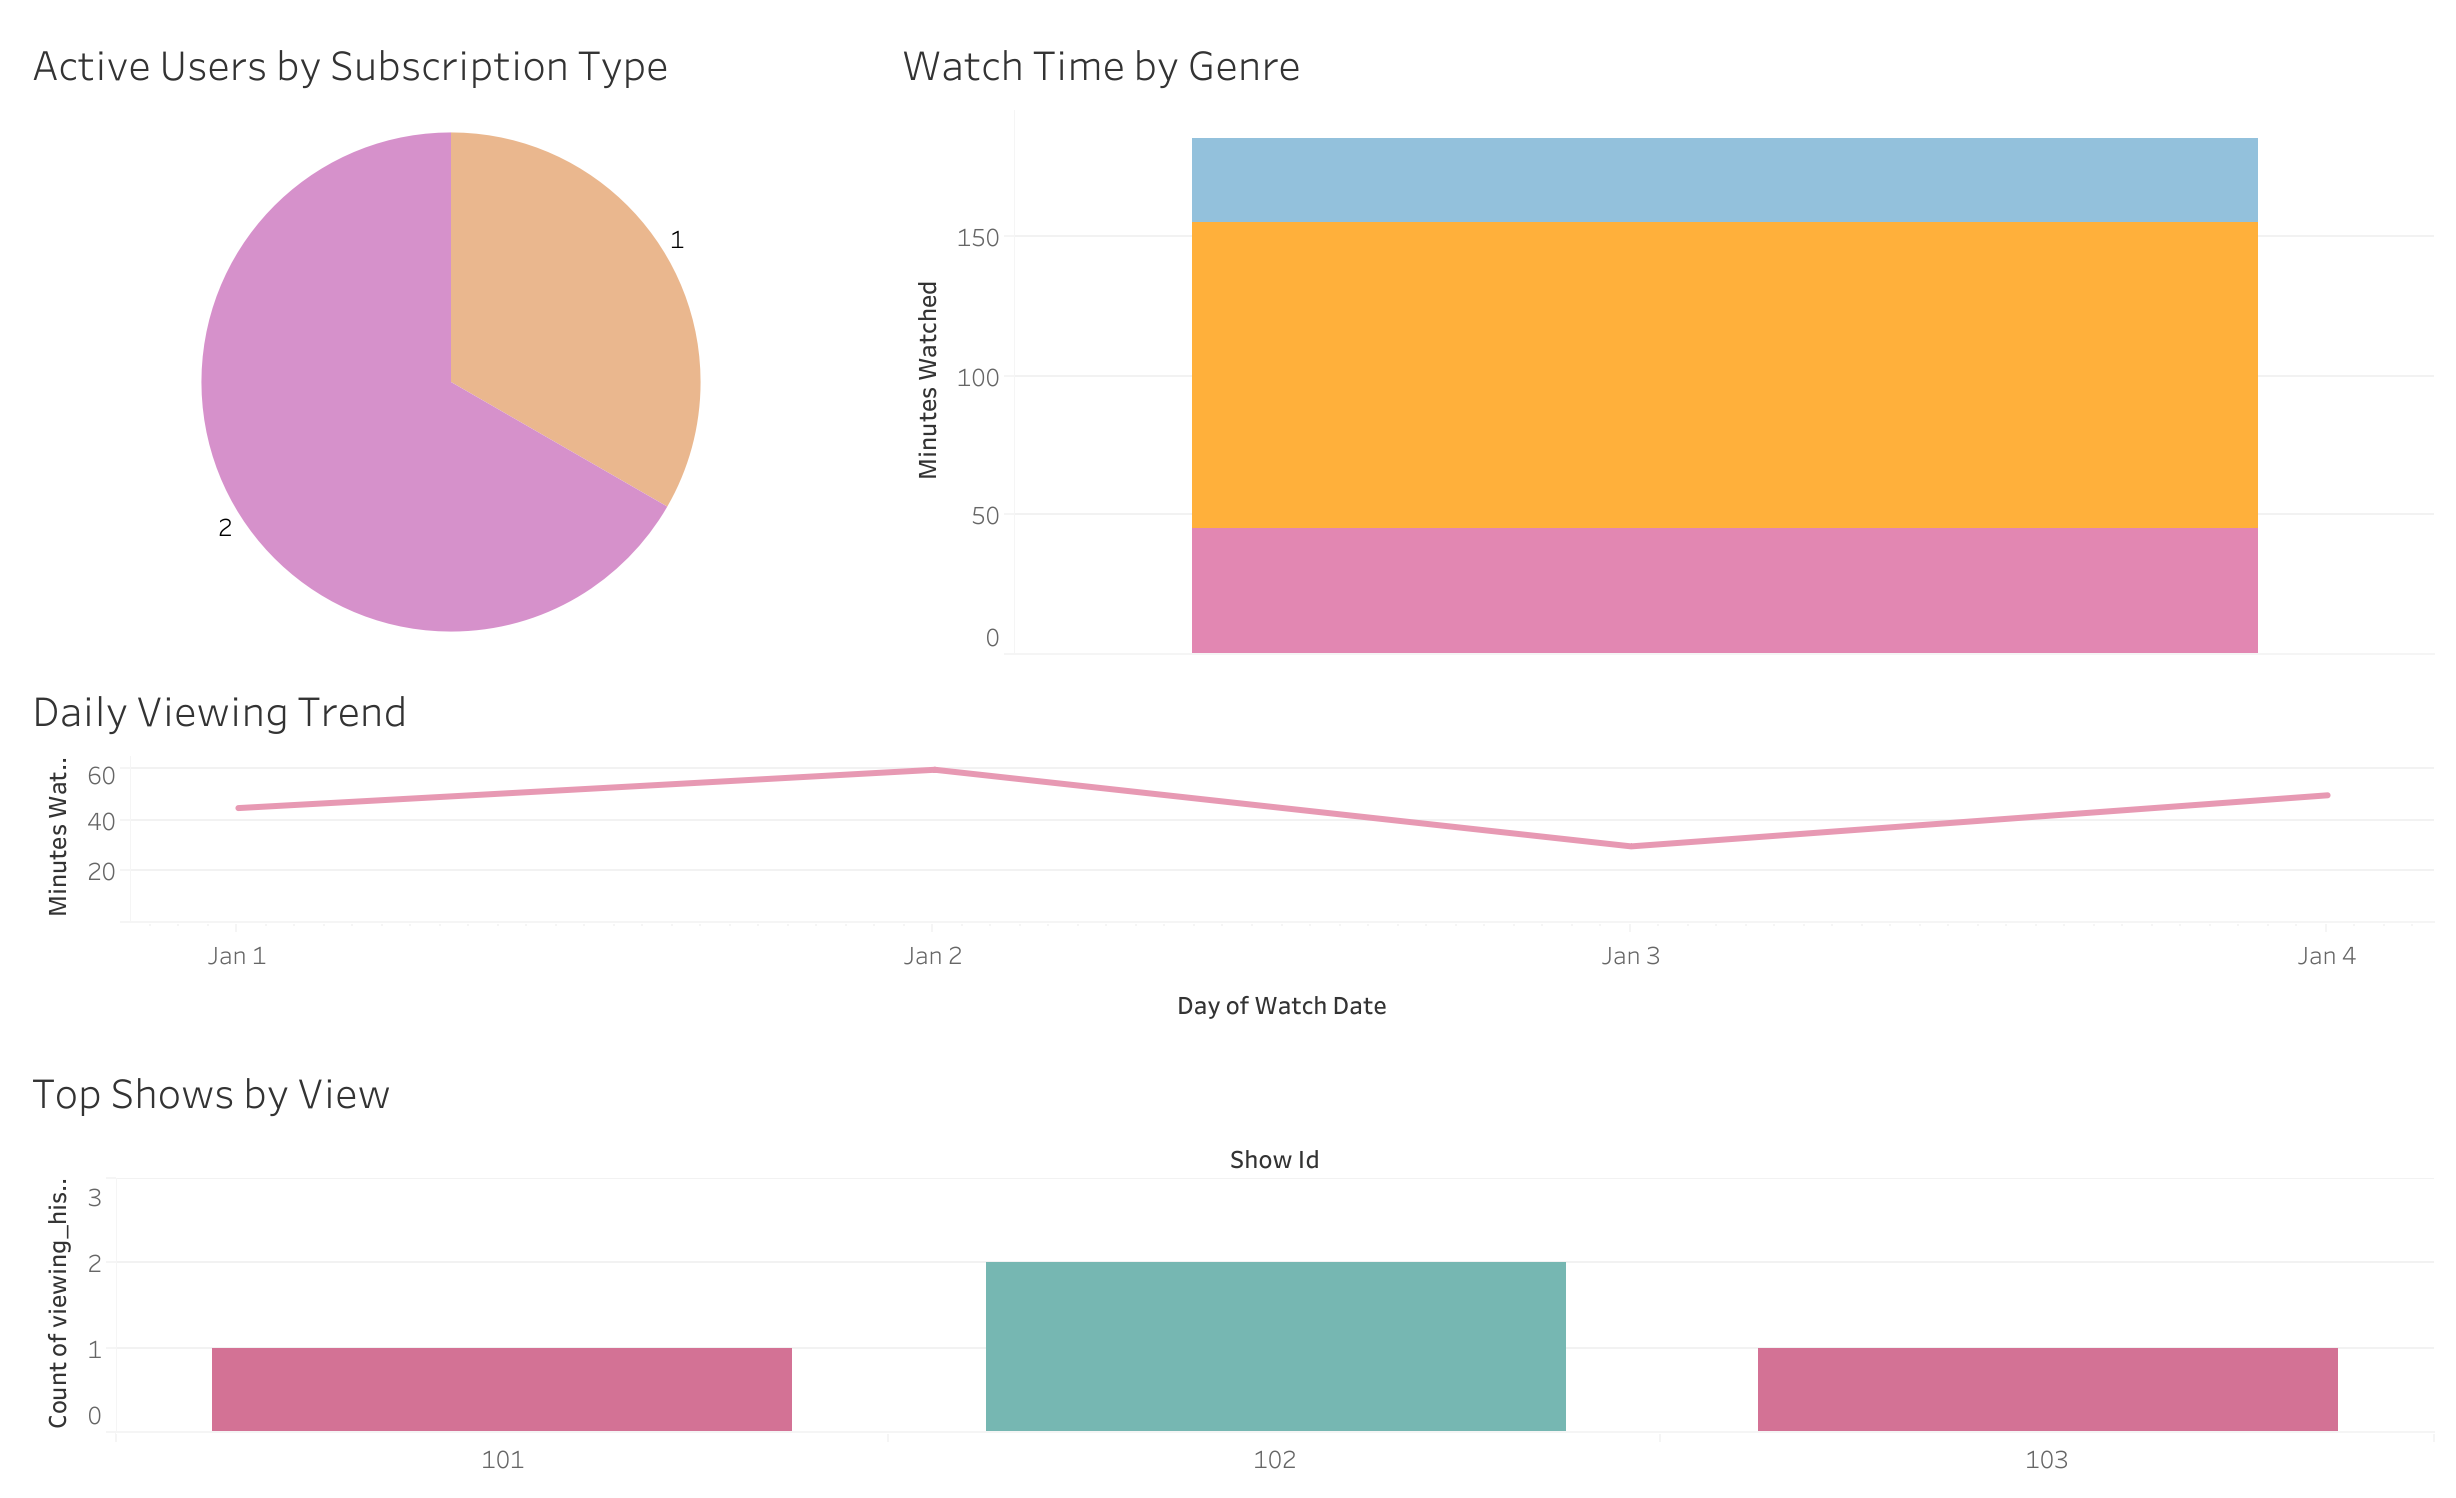

What the dashboard file says about the page in this screenshot:
{"tool":"tableau","page":{"name":"Streaming Platform Engagement","canvas":[1229,750],"ordinal":0},"visuals":[{"type":"worksheet","title":"Active Users by Subscription Type","mark":"Pie","box":[8,8,435,322.6]},{"type":"worksheet","title":"Watch Time by Genre","mark":"Automatic","rows":["minutes_watched"],"box":[443,8,778,322.6]},{"type":"worksheet","title":"Daily Viewing Trend","mark":"Line","rows":["minutes_watched"],"cols":["watch_date"],"box":[8,330.6,1213,191.7]},{"type":"worksheet","title":"Top Shows by View","mark":"Bar","rows":["viewing_history.csv_B9A9C6DB75114AA0B07CDB65E741CD17"],"cols":["show_id"],"box":[8,522.3,1213,219.7]}]}

Visuals, with their boxes in screenshot pixels (x1, y1, x2, y2), scaled from the page's 1229x750 canvas onto the 2456x1498 screenshot:
"Active Users by Subscription Type" worksheet (Pie marks): (16, 16, 885, 660)
"Watch Time by Genre" worksheet: (885, 16, 2440, 660)
"Daily Viewing Trend" worksheet (Line marks): (16, 660, 2440, 1043)
"Top Shows by View" worksheet (Bar marks): (16, 1043, 2440, 1482)
